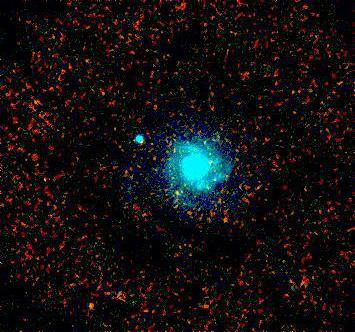star: (74, 292, 104, 322)
